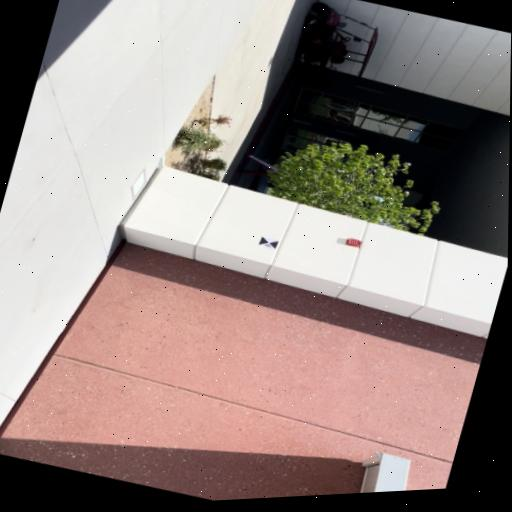target6: (258, 236, 278, 249)
